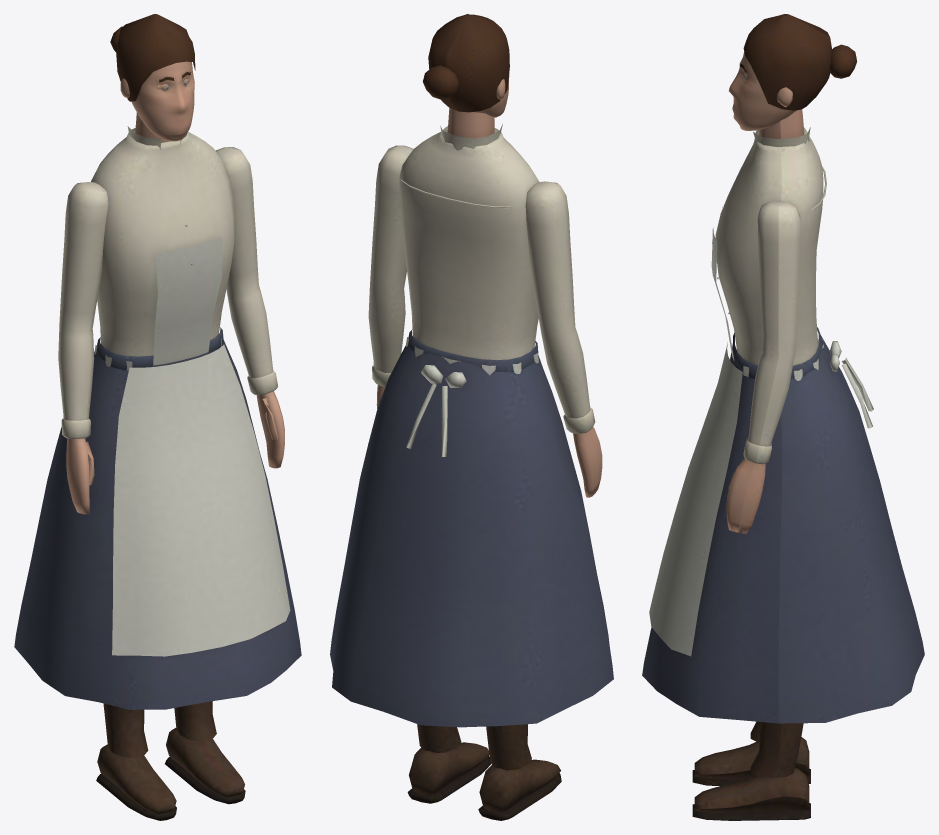
Rendered from b_person_b.glb.
3 renders of one model, left to right at view 1: azimuth 30°, elevation 25°; view 2: azimuth 150°, elevation 25°; view 3: azimuth 270°, elevation 25°, orthographic. The views are drawn at different scales.
Parts seen in each view (by area): view 1: body, armR, armL, legR, legL; view 2: body, armR, armL, legR, legL; view 3: body, armL, legL, legR.
Part boxes in pixels (x1,y1,x2,y2): body: (14,14,301,709); armR: (58,182,108,514); armL: (215,147,284,468); legR: (96,703,176,820); legL: (165,701,245,804); body: (330,14,613,727); armR: (525,181,602,497); armL: (368,145,413,408); legR: (478,724,561,820); legL: (407,724,490,803); body: (642,14,924,723); armL: (726,201,800,533); legL: (692,722,810,820); legR: (692,721,810,786).
Size of the model in its own units: 0.5309 by 1.66 by 0.5428.
1 material, 1 textured.
